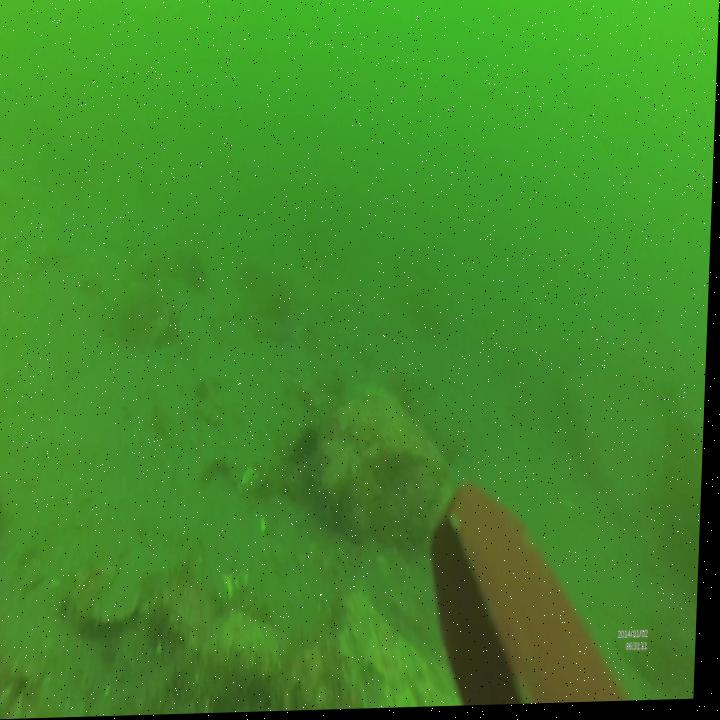echinus: (294, 425, 327, 476)
